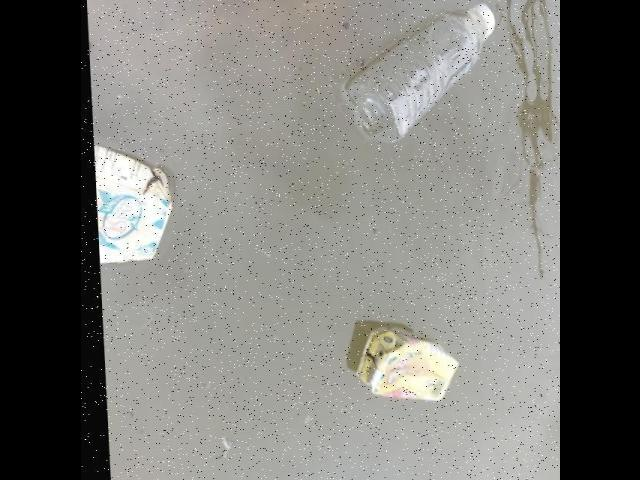Bottle: (344, 0, 498, 146)
Box: (92, 140, 178, 276), (352, 314, 460, 410)
